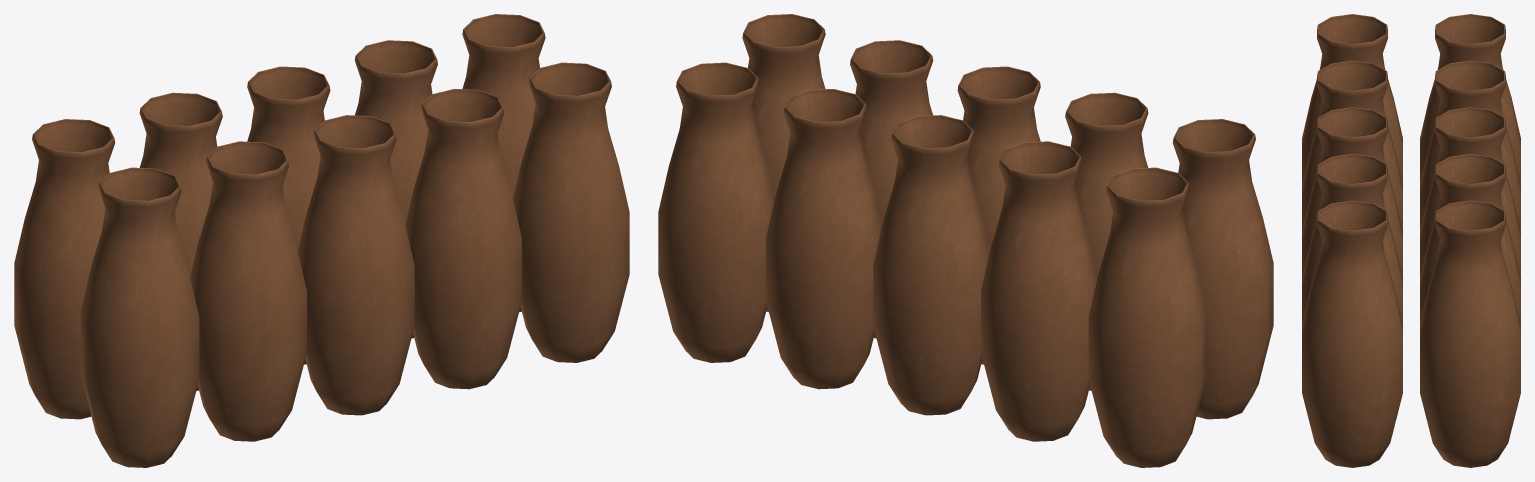
Rendered from PotteryJar6_Group.fbx.
The picture shows the model from 3 angles, left to right: view 1: azimuth 30°, elevation 25°; view 2: azimuth 150°, elevation 25°; view 3: azimuth 270°, elevation 25°; orthographic projection. The views are drawn at different scales.
Visible parts, largest first — view 1: PotteryJar6_9, PotteryJar6_8, PotteryJar6_7, PotteryJar6_6, PotteryJar6_5, PotteryJar6_, PotteryJar6_3, PotteryJar6_2, PotteryJar6_1, PotteryJar6_4; view 2: PotteryJar6_, PotteryJar6_2, PotteryJar6_1, PotteryJar6_3, PotteryJar6_4, PotteryJar6_9, PotteryJar6_7, PotteryJar6_6, PotteryJar6_8, PotteryJar6_5; view 3: PotteryJar6_5, PotteryJar6_4, PotteryJar6_6, PotteryJar6_3, PotteryJar6_8, PotteryJar6_1, PotteryJar6_9, PotteryJar6_, PotteryJar6_7, PotteryJar6_2.
Boxes of the visible parts, left/top/right/bottom form: PotteryJar6_9: left=80, top=167, right=199, bottom=467; PotteryJar6_8: left=190, top=141, right=306, bottom=441; PotteryJar6_7: left=298, top=115, right=414, bottom=415; PotteryJar6_6: left=405, top=89, right=521, bottom=389; PotteryJar6_5: left=513, top=62, right=629, bottom=362; PotteryJar6_: left=14, top=119, right=115, bottom=419; PotteryJar6_3: left=354, top=40, right=437, bottom=338; PotteryJar6_2: left=247, top=66, right=330, bottom=364; PotteryJar6_1: left=139, top=92, right=222, bottom=390; PotteryJar6_4: left=462, top=14, right=545, bottom=312; PotteryJar6_: left=1088, top=167, right=1207, bottom=467; PotteryJar6_2: left=873, top=115, right=989, bottom=415; PotteryJar6_1: left=981, top=141, right=1097, bottom=441; PotteryJar6_3: left=766, top=89, right=882, bottom=389; PotteryJar6_4: left=658, top=62, right=774, bottom=362; PotteryJar6_9: left=1172, top=119, right=1273, bottom=419; PotteryJar6_7: left=957, top=66, right=1040, bottom=364; PotteryJar6_6: left=850, top=40, right=933, bottom=338; PotteryJar6_8: left=1065, top=92, right=1148, bottom=390; PotteryJar6_5: left=742, top=14, right=825, bottom=312; PotteryJar6_5: left=1302, top=200, right=1402, bottom=467; PotteryJar6_4: left=1420, top=200, right=1520, bottom=467; PotteryJar6_6: left=1302, top=154, right=1402, bottom=323; PotteryJar6_3: left=1420, top=154, right=1520, bottom=323; PotteryJar6_8: left=1302, top=60, right=1402, bottom=230; PotteryJar6_1: left=1420, top=60, right=1520, bottom=230; PotteryJar6_9: left=1302, top=14, right=1402, bottom=183; PotteryJar6_: left=1420, top=14, right=1520, bottom=183; PotteryJar6_7: left=1302, top=107, right=1402, bottom=277; PotteryJar6_2: left=1420, top=107, right=1520, bottom=277.
Bounding box in the file's own units: 44.14 × 21.45 × 17.64.
